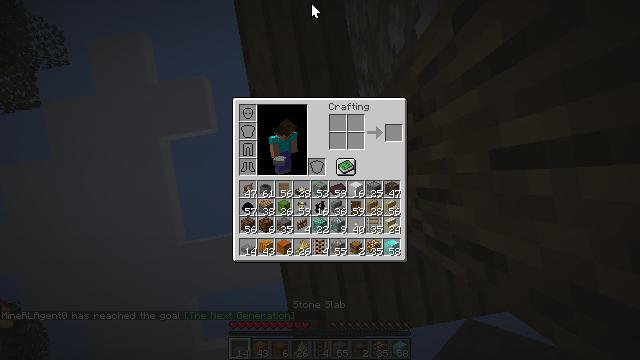cursor: (311, 3, 321, 19)
